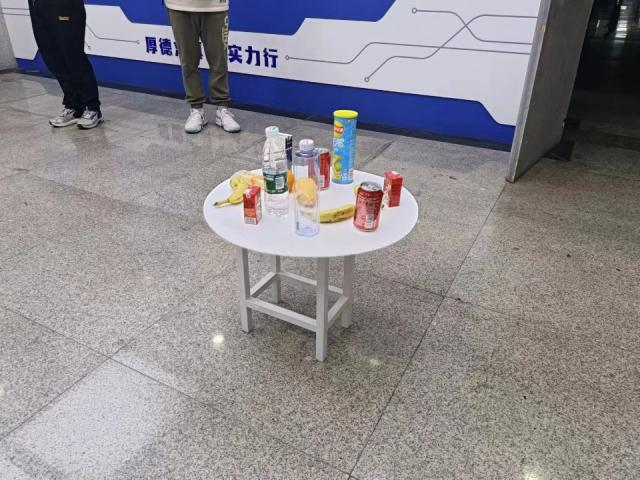Canned_drinks: (353, 181, 383, 233), (310, 148, 330, 191)
bottle: (292, 138, 321, 238), (261, 125, 290, 220)
cylinder: (334, 110, 357, 184)
drink_box: (243, 185, 263, 226), (384, 171, 403, 206), (276, 132, 292, 172)
